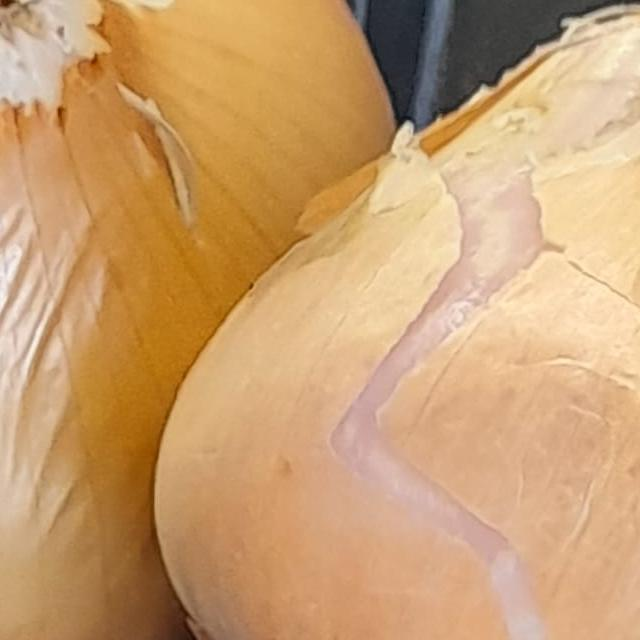onion: (180, 0, 640, 640), (0, 0, 423, 640)
